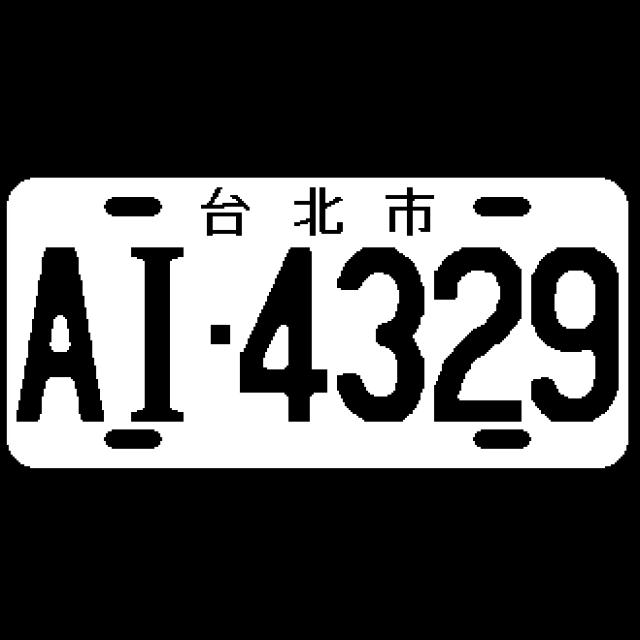plate: (4, 173, 630, 472)
